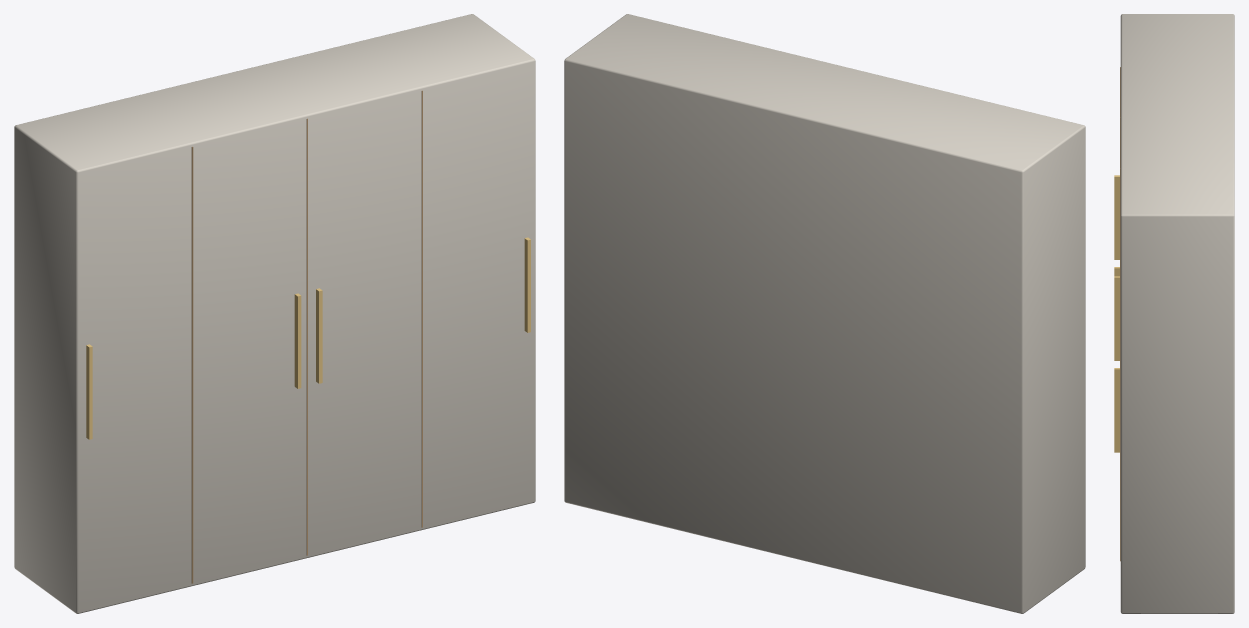
Rendered from fur_wardrobe_4.glb.
The picture shows the model from 3 angles, left to right: view 1: azimuth 30°, elevation 25°; view 2: azimuth 150°, elevation 25°; view 3: azimuth 270°, elevation 25°; orthographic projection. The views are drawn at different scales.
Visible parts, largest first — view 1: FUR_wardrobe_4; view 2: FUR_wardrobe_4; view 3: FUR_wardrobe_4.
Part boxes in pixels (x1=…): FUR_wardrobe_4: x1=14, y1=14, x2=535, y2=613; FUR_wardrobe_4: x1=564, y1=14, x2=1085, y2=613; FUR_wardrobe_4: x1=1114, y1=14, x2=1234, y2=613.
Size of the model in its own units: 2.6 by 2.4 by 0.6551.
